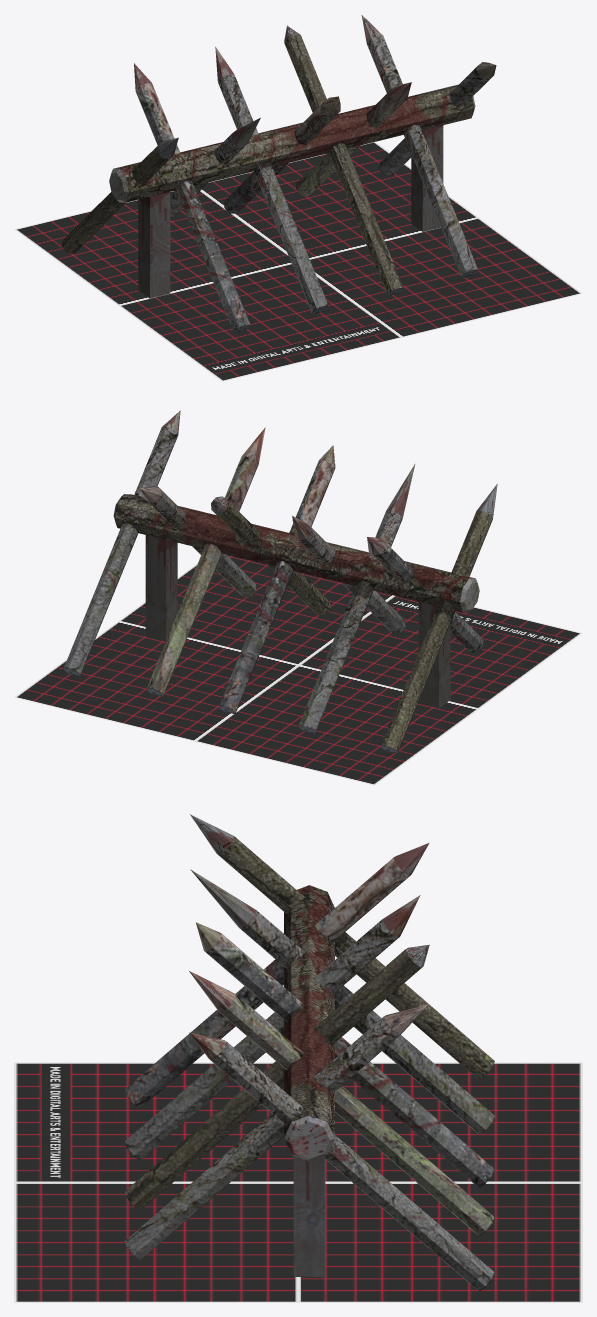
File: Wooden_Barricade_Blood.fbx
3 renders of one model, top to bottom at view 1: azimuth 30°, elevation 25°; view 2: azimuth 150°, elevation 25°; view 3: azimuth 270°, elevation 25°, orthographic. The views are drawn at different scales.
Parts seen in each view (by area): view 1: floor_grid, SM_Barricade; view 2: floor_grid, SM_Barricade; view 3: floor_grid, SM_Barricade.
Boxes of the visible parts, <box> form: floor_grid: <box>14,142,582,381</box>; SM_Barricade: <box>62,15,496,333</box>; floor_grid: <box>14,555,582,785</box>; SM_Barricade: <box>63,410,497,753</box>; floor_grid: <box>14,1062,582,1302</box>; SM_Barricade: <box>124,814,494,1290</box>.
Size of the model in its own units: 78.74 by 40.35 by 78.74.
Materials: 2 (2 with a texture image).
